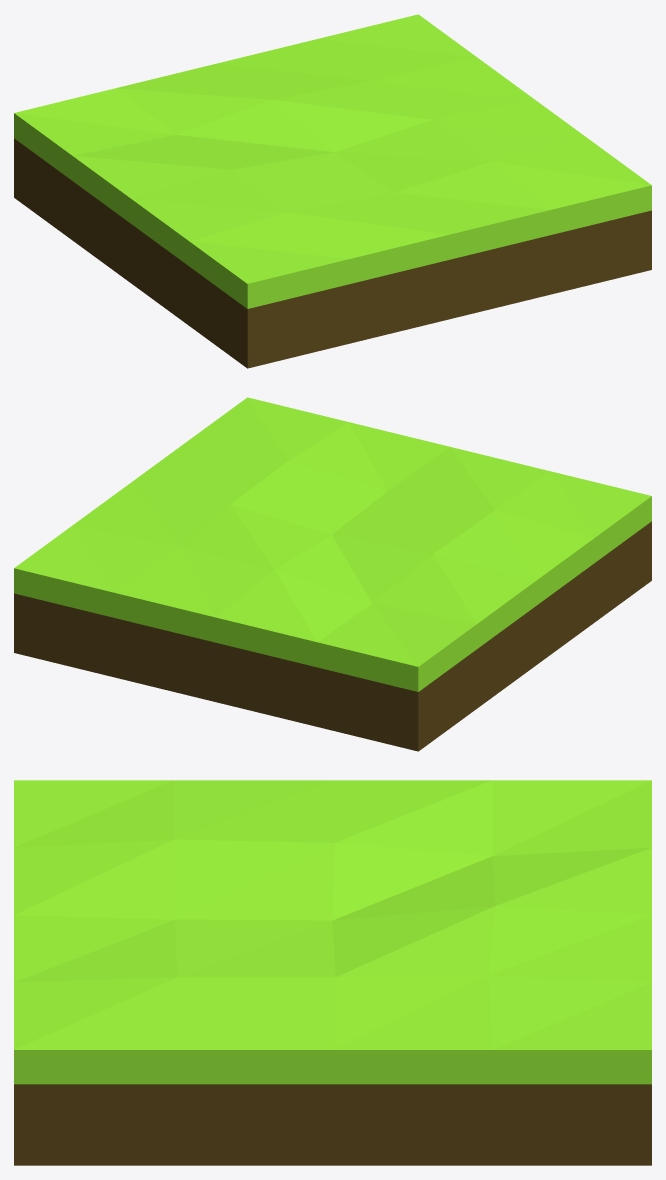
Rendered from tile_flach_tri.fbx.
3 renders of one model, top to bottom at view 1: azimuth 30°, elevation 25°; view 2: azimuth 150°, elevation 25°; view 3: azimuth 270°, elevation 25°, orthographic. The views are drawn at different scales.
Parts seen in each view (by area): view 1: Cube; view 2: Cube; view 3: Cube.
Boxes of the visible parts, x1,y1,x2,y2 form: Cube: [14, 14, 651, 368]; Cube: [14, 397, 651, 751]; Cube: [14, 780, 651, 1165].
Bounding box in the file's own units: 1000 × 214 × 1000.
2 materials, 1 textured.
